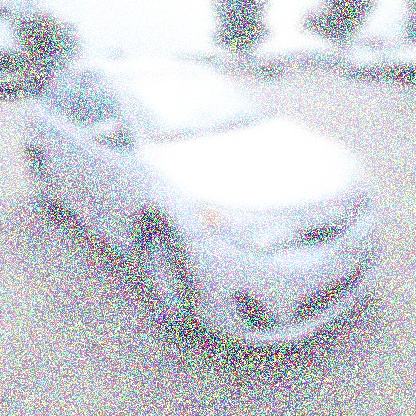Vehicle: (26, 59, 376, 348)
